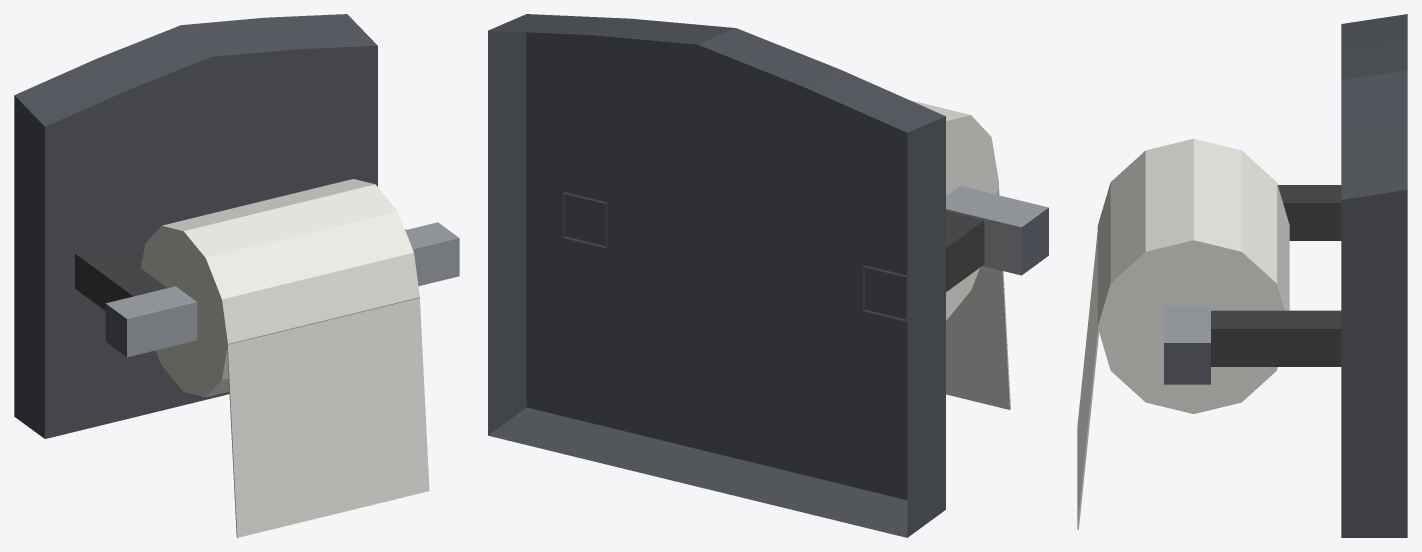
File: Toilet_Paper.fbx
3 renders of one model, left to right at view 1: azimuth 30°, elevation 25°; view 2: azimuth 150°, elevation 25°; view 3: azimuth 270°, elevation 25°, orthographic. The views are drawn at different scales.
Visible parts, largest first — view 1: polySurface1554; view 2: polySurface1554; view 3: polySurface1554.
Boxes of the visible parts, bbox=[...] form: polySurface1554: bbox=[14, 14, 459, 537]; polySurface1554: bbox=[488, 14, 1048, 537]; polySurface1554: bbox=[1077, 14, 1407, 537].
Size of the model in its own units: 0.52 by 0.564 by 0.413.
1 material, 1 textured.
